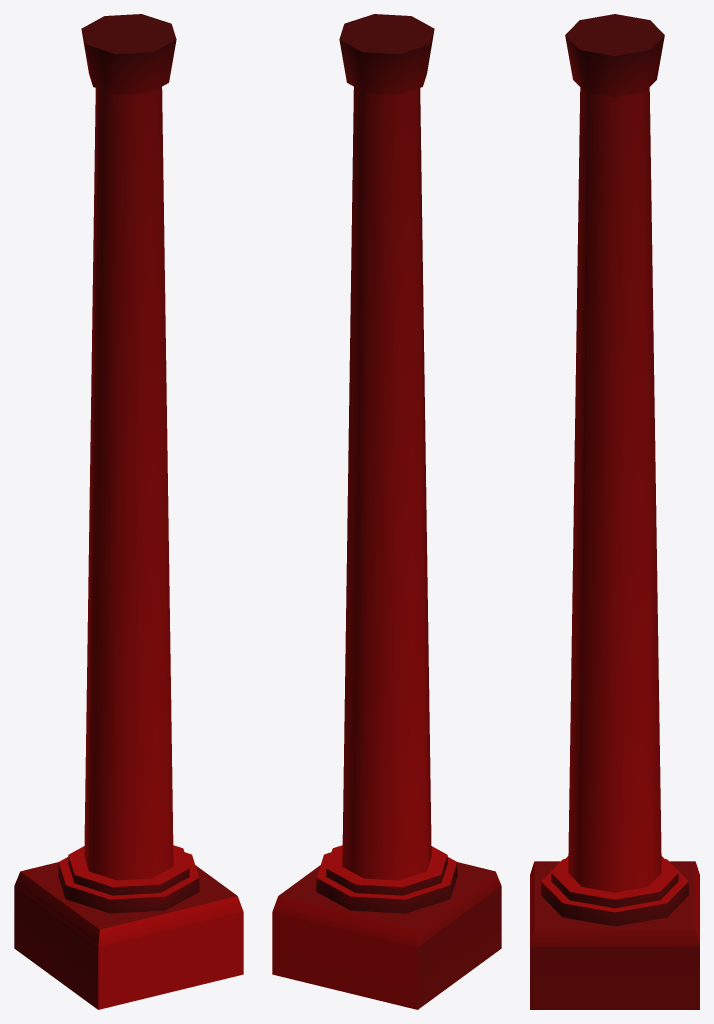
The model's file is buildings-ruins-ancientruins_v3.fbx.
3 renders of one model, left to right at view 1: azimuth 30°, elevation 25°; view 2: azimuth 150°, elevation 25°; view 3: azimuth 270°, elevation 25°, orthographic.
Visible parts, largest first — view 1: AncientRuins_v3; view 2: AncientRuins_v3; view 3: AncientRuins_v3.
Boxes of the visible parts, x1=… form: AncientRuins_v3: x1=14, y1=14, x2=243, y2=1009; AncientRuins_v3: x1=272, y1=14, x2=501, y2=1009; AncientRuins_v3: x1=530, y1=14, x2=699, y2=1009.
Size of the model in its own units: 1.43 by 8.7 by 1.43.
